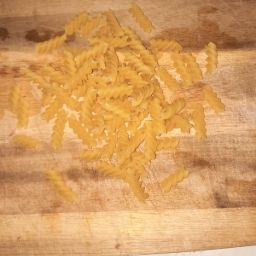Pasta: (12, 3, 243, 221), (128, 10, 226, 112), (87, 140, 191, 211), (102, 145, 202, 204), (39, 4, 117, 65), (17, 83, 76, 161), (31, 160, 96, 218), (7, 131, 50, 162), (189, 100, 213, 150)
